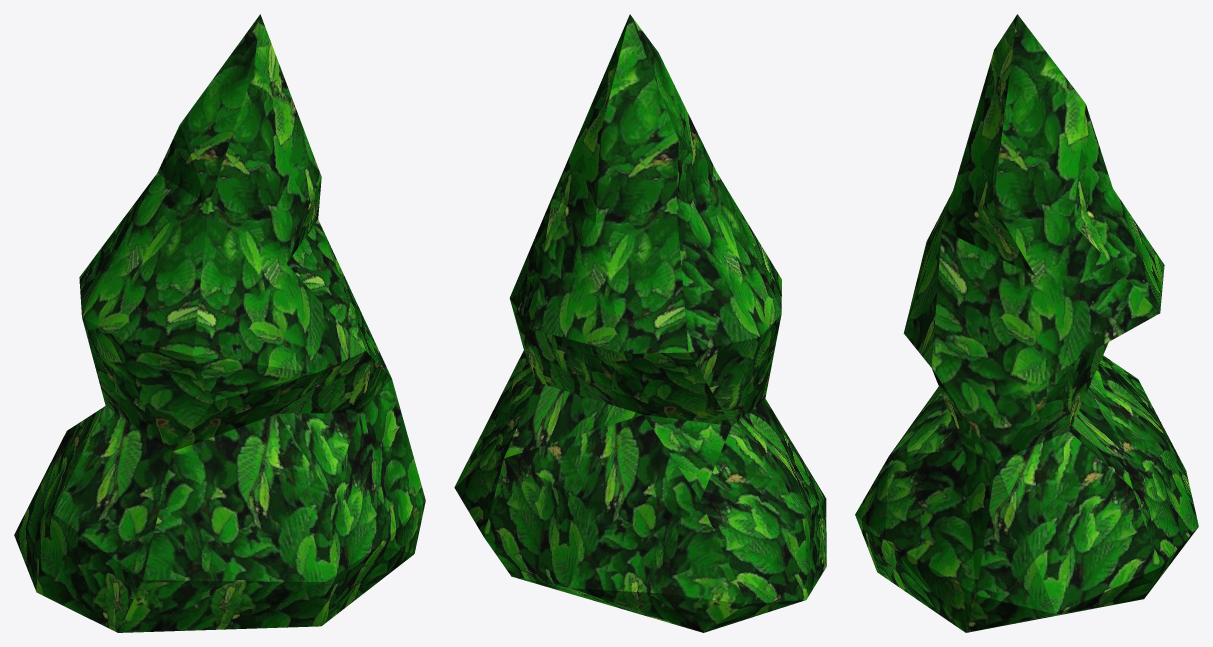
The model's file is tree1.glb.
3 views of the same model, side by side, from view 1: azimuth 30°, elevation 25°; view 2: azimuth 150°, elevation 25°; view 3: azimuth 270°, elevation 25° (orthographic). The views are drawn at different scales.
Parts seen in each view (by area): view 1: geometry_0.019; view 2: geometry_0.019; view 3: geometry_0.019.
Part boxes in pixels (left/top/right/bottom): geometry_0.019: left=14, top=14, right=425, bottom=632; geometry_0.019: left=454, top=14, right=826, bottom=632; geometry_0.019: left=855, top=14, right=1198, bottom=632.
Size of the model in its own units: 0.5895 by 0.8591 by 0.4761.
1 material, 1 textured.
